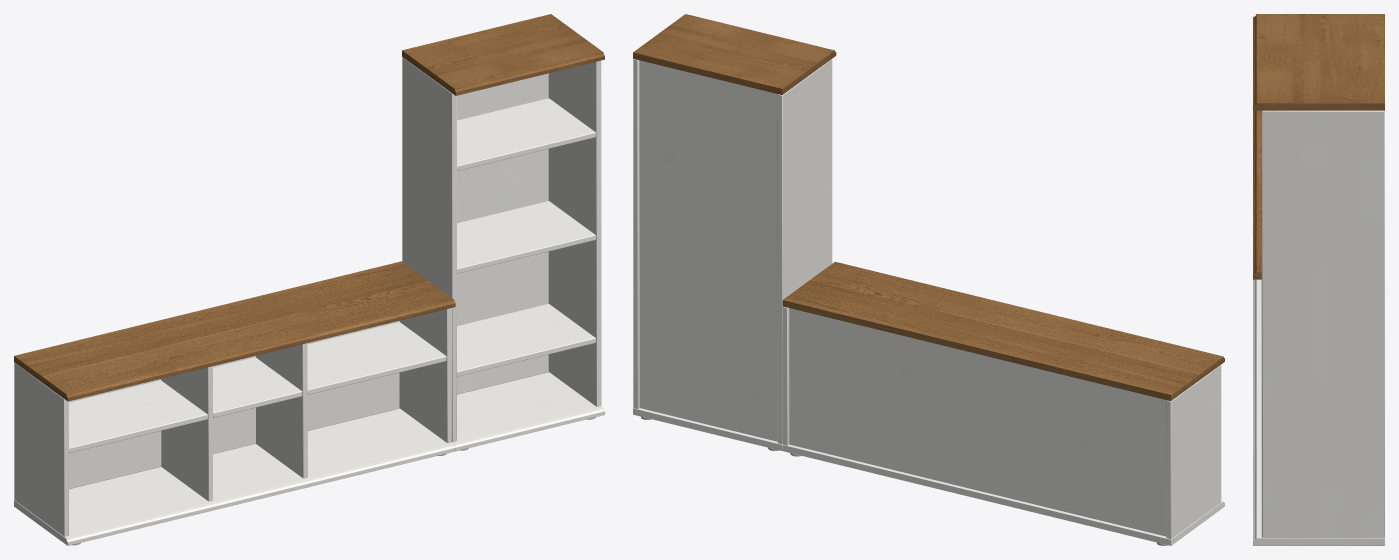
Rendered from skruvby_tv_storage_combination_white.glb.
3 renders of one model, left to right at view 1: azimuth 30°, elevation 25°; view 2: azimuth 150°, elevation 25°; view 3: azimuth 270°, elevation 25°, orthographic. The views are drawn at different scales.
Parts seen in each view (by area): view 1: Mesh_0; view 2: Mesh_0; view 3: Mesh_0.
Part boxes in pixels (bbox=[...]): Mesh_0: bbox=[14, 14, 604, 545]; Mesh_0: bbox=[633, 14, 1224, 545]; Mesh_0: bbox=[1253, 14, 1384, 545].
Bounding box in the file's own units: 2.16 × 1.4 × 0.375.
3 materials, 2 textured.
